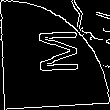M_W: (29, 31, 81, 79)
